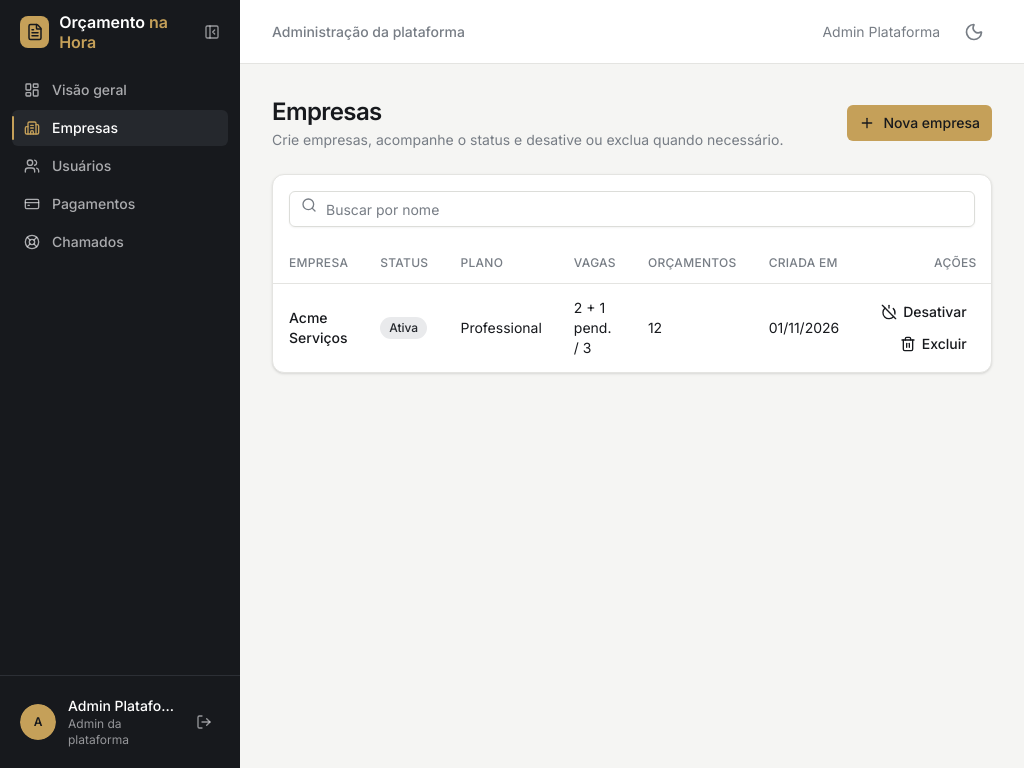
Scenario: administração da plataforma › exclui a empresa só depois de digitar o nome
Click the button with aria-label "Excluir Acme Serviços" at point(933, 344), box [890,328,977,360]
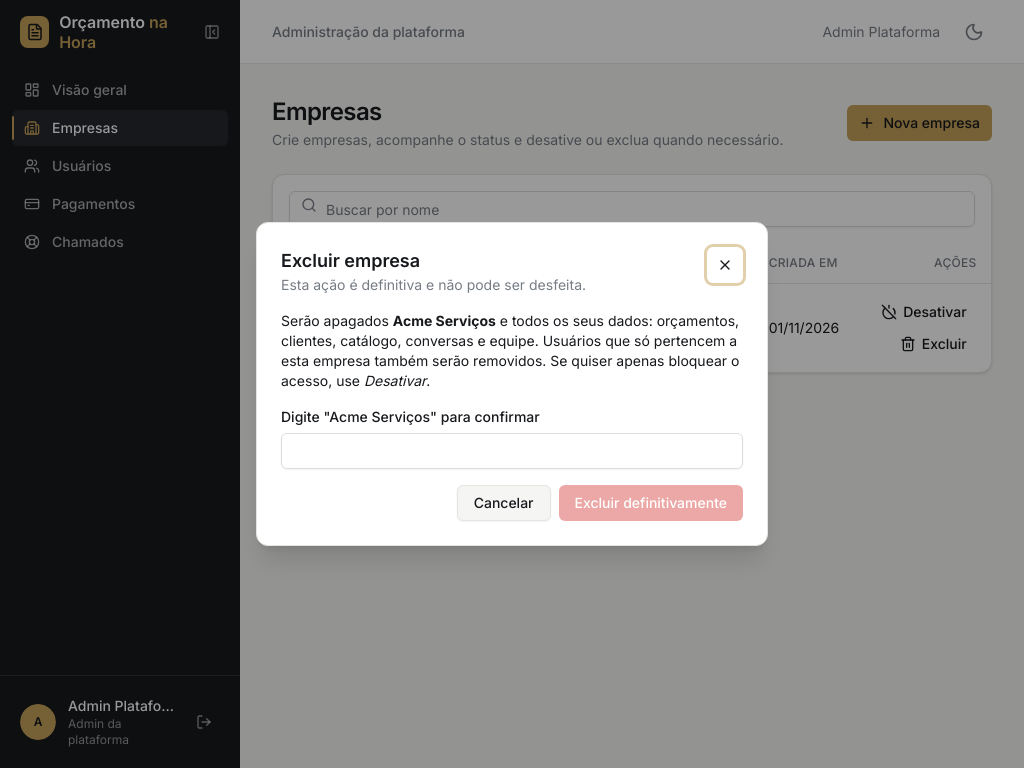
expect the button "Excluir definitivamente" is disabled: met, box [558,485,743,521]
Type "Acme Serviços" into the field labelled "Digite \"Acme Serviços\" para confirmar" at point(512, 451), box [281,433,743,469]
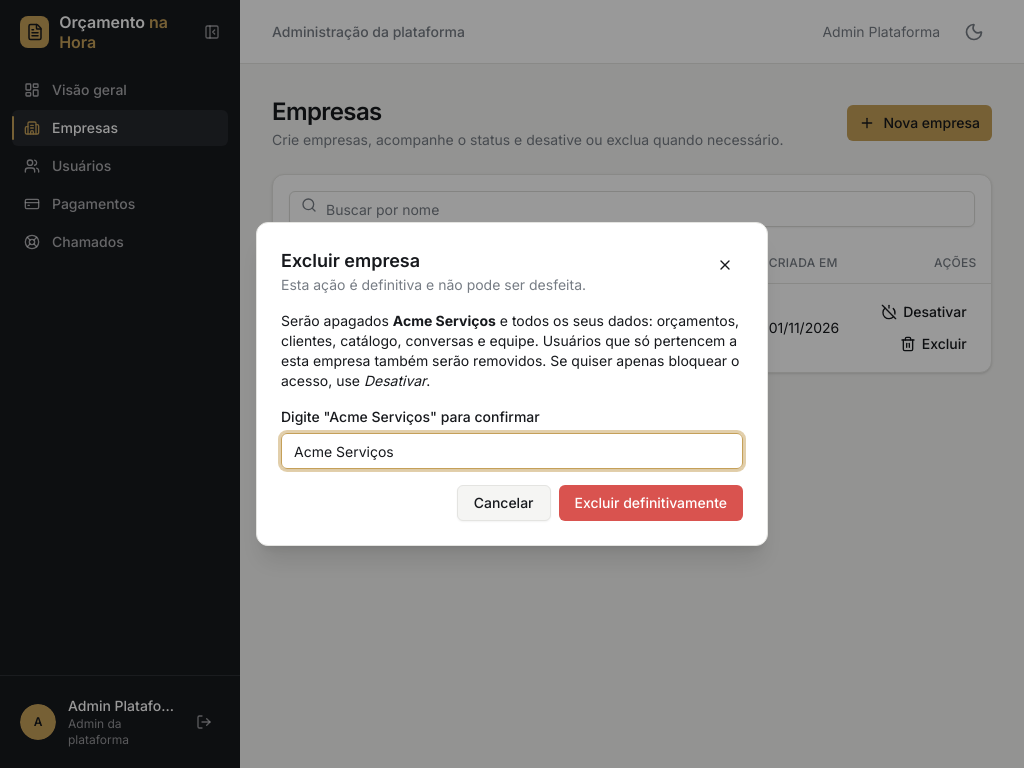
expect the button "Excluir definitivamente" is enabled: met
Click the button "Excluir definitivamente" at point(651, 503), box [558,485,743,521]
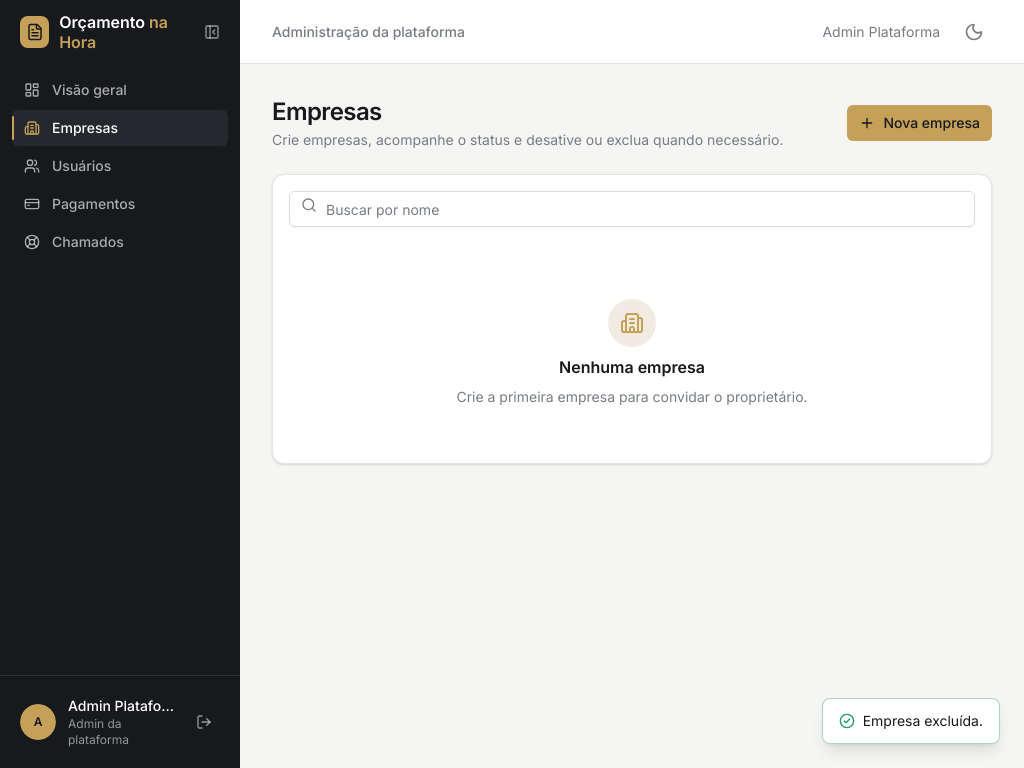
expect the heading "Nenhuma empresa" is shown: met, box [559,355,705,379]
